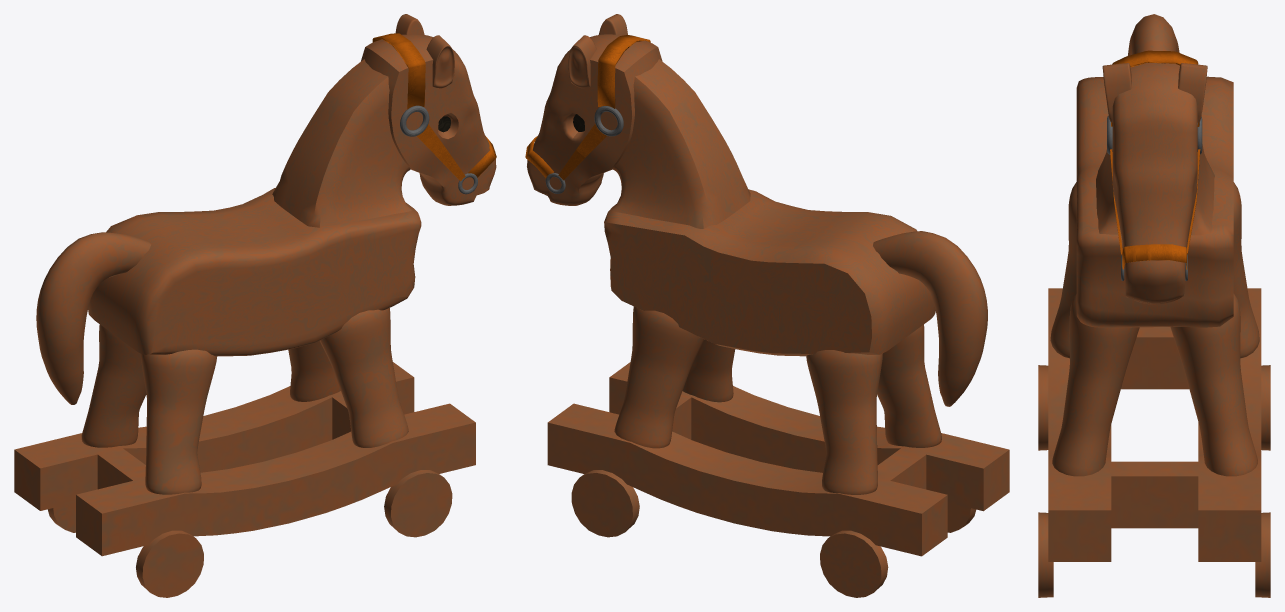
Rendered from cabalo_madera.fbx.
The picture shows the model from 3 angles, left to right: view 1: azimuth 30°, elevation 25°; view 2: azimuth 150°, elevation 25°; view 3: azimuth 270°, elevation 25°; orthographic projection. The views are drawn at different scales.
Visible parts, largest first — view 1: Retopo_Cuerpo.001, Plane.001, Retopo_Torus.003; view 2: Retopo_Cuerpo.001, Plane.001, Retopo_Torus.003; view 3: Retopo_Cuerpo.001, Plane.001, Retopo_Torus.003.
Part boxes in pixels (x1,y1,x2,y2): Retopo_Cuerpo.001: (14,14,496,597); Plane.001: (372,33,496,181); Retopo_Torus.003: (400,105,477,194); Retopo_Cuerpo.001: (527,14,1009,597); Plane.001: (525,35,650,180); Retopo_Torus.003: (545,106,623,193); Retopo_Cuerpo.001: (1038,14,1270,597); Plane.001: (1110,50,1200,269); Retopo_Torus.003: (1107,116,1202,280).
Bounding box in the file's own units: 5.75 × 5.61 × 2.11.
Materials: 4 (4 with a texture image).
